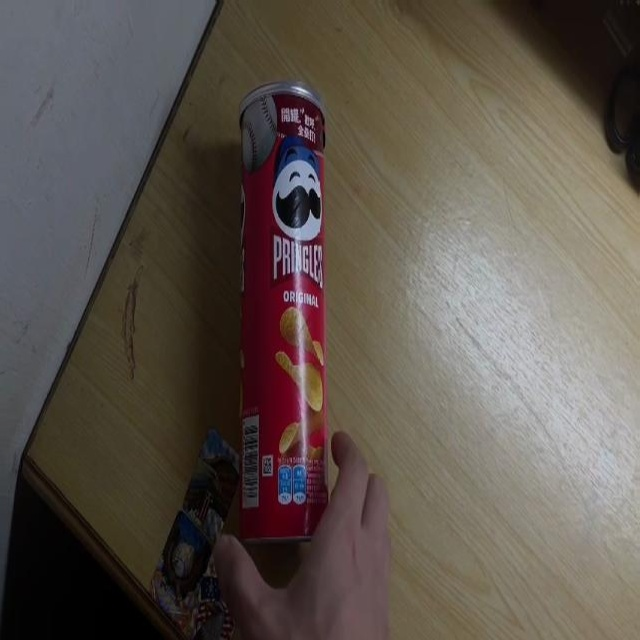Pringles: (238, 77, 330, 551)
